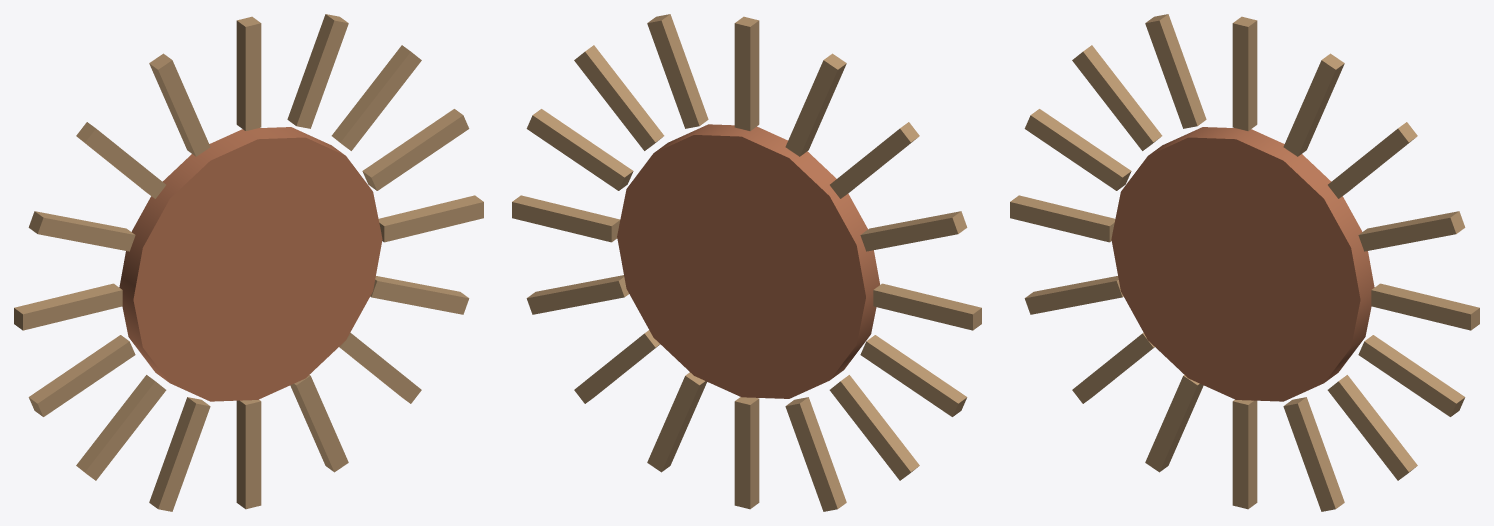
3 renders of one model, left to right at view 1: azimuth 30°, elevation 25°; view 2: azimuth 150°, elevation 25°; view 3: azimuth 330°, elevation 25°, orthographic.
Visible parts, largest first — view 1: disc, ray2, ray10, ray1, ray9, ray3, ray11, ray0, ray8, ray12, ray4, ray15 (+5 smaller); view 2: disc, ray2, ray10, ray1, ray9, ray3, ray11, ray0, ray8, ray12, ray4, ray15 (+5 smaller); view 3: disc, ray6, ray14, ray7, ray15, ray5, ray13, ray0, ray8, ray4, ray12, ray1 (+5 smaller).
Part boxes in pixels (x1,y1,x2,y2): disc: (119, 127, 382, 401); ray2: (331, 45, 421, 150); ray10: (76, 375, 166, 480); ray1: (287, 14, 348, 128); ray9: (149, 397, 210, 511); ray3: (362, 109, 469, 190); ray11: (28, 335, 135, 416); ray0: (236, 16, 261, 130); ray8: (236, 399, 261, 509); ray12: (14, 283, 122, 330); ray4: (378, 195, 483, 242); ray15: (149, 53, 210, 156); disc: (617, 124, 879, 398); ray2: (574, 45, 664, 150); ray10: (829, 375, 919, 480); ray1: (647, 14, 708, 128); ray9: (785, 397, 846, 511); ray3: (526, 109, 633, 190); ray11: (860, 335, 967, 416); ray0: (734, 16, 759, 130); ray8: (734, 397, 759, 509); ray12: (873, 283, 981, 330); ray4: (512, 195, 620, 242); ray15: (785, 53, 846, 156); disc: (1111, 127, 1374, 401); ray6: (1327, 375, 1417, 480); ray14: (1072, 45, 1162, 150); ray7: (1283, 397, 1344, 511); ray15: (1145, 14, 1206, 128); ray5: (1358, 335, 1465, 416); ray13: (1024, 109, 1131, 190); ray0: (1232, 16, 1257, 130); ray8: (1232, 399, 1257, 509); ray4: (1371, 283, 1479, 330); ray12: (1010, 195, 1115, 242); ray1: (1283, 53, 1344, 156).
Bounding box in the file's own units: 0.74 × 0.74 × 0.04.
